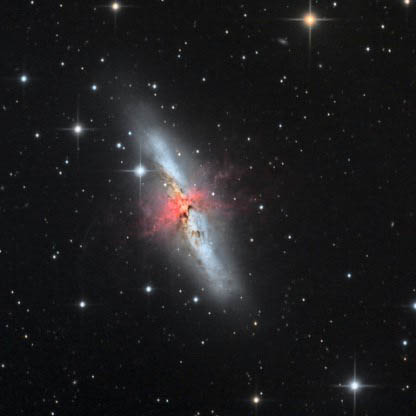Messier 82: (91, 83, 267, 338)
